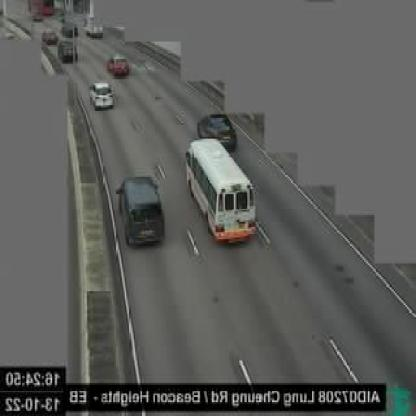Bus: (186, 138, 254, 249)
Car: (118, 174, 165, 247), (198, 112, 240, 148), (91, 81, 114, 109), (57, 40, 78, 65), (107, 55, 129, 78)
